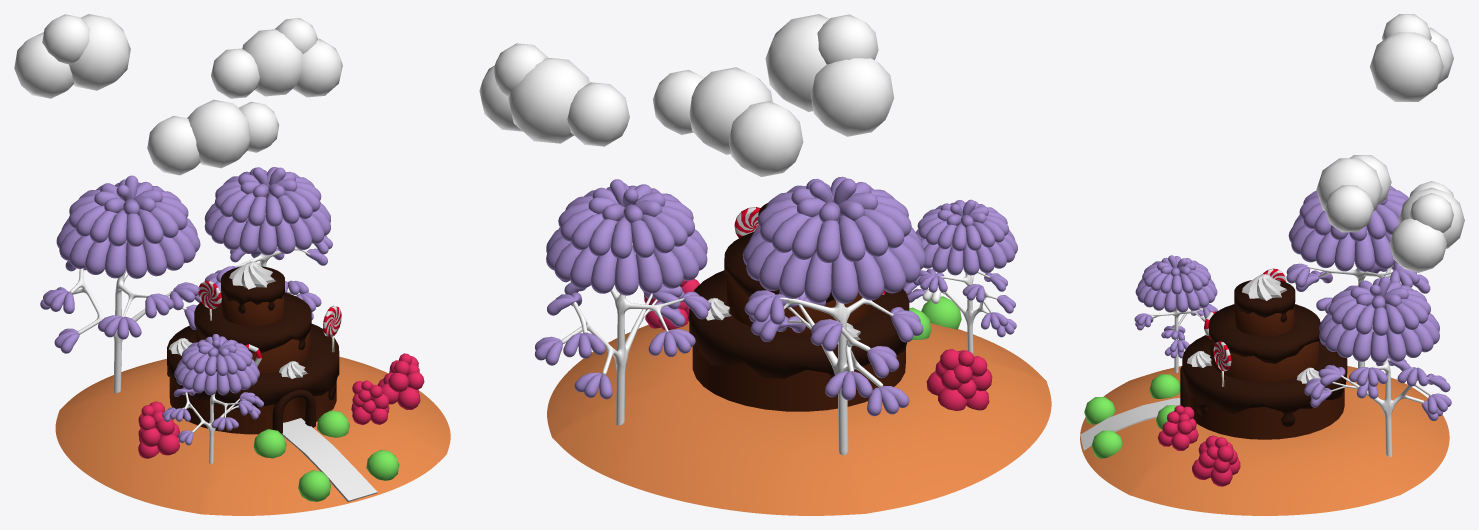
3 renders of one model, left to right at view 1: azimuth 30°, elevation 25°; view 2: azimuth 150°, elevation 25°; view 3: azimuth 270°, elevation 25°, orthographic. The views are drawn at different scales.
Parts seen in each view (by area): view 1: Plane.001_3, Leaf Circle Big.001_28, Cake.001_23, Leaf Circle Big.002_33, Icosphere.001_19, Icosphere.002_20, Icosphere_18, Cake_22, Leaf Circle Big_24, Plane.002_11, Raspi.002_10, Raspi.001_6 (+15 smaller); view 2: Plane.001_3, Leaf Circle Big.001_28, Leaf Circle Big.002_33, Icosphere.002_20, Icosphere.001_19, Icosphere_18, Cake.001_23, Cake_22, Leaf Circle Big_24, Leaf Mid.025_34, Leaf Mid.018_29, Raspi.002_10 (+8 smaller); view 3: Plane.001_3, Cake.001_23, Leaf Circle Big.002_33, Cake_22, Leaf Circle Big.001_28, Icosphere.002_20, Icosphere.001_19, Icosphere_18, Leaf Circle Big_24, Leaf Mid.025_34, Raspi.001_6, Plane.002_11 (+10 smaller).
Part boxes in pixels (x1=…): Plane.001_3: x1=55, y1=356, x2=450, y2=515; Leaf Circle Big.001_28: x1=56, y1=175, x2=200, y2=278; Cake.001_23: x1=167, y1=266, x2=339, y2=412; Leaf Circle Big.002_33: x1=204, y1=167, x2=330, y2=255; Icosphere.001_19: x1=211, y1=18, x2=342, y2=98; Icosphere.002_20: x1=14, y1=14, x2=130, y2=98; Icosphere_18: x1=147, y1=99, x2=278, y2=175; Cake_22: x1=169, y1=293, x2=336, y2=434; Leaf Circle Big_24: x1=174, y1=334, x2=259, y2=395; Plane.002_11: x1=282, y1=418, x2=377, y2=502; Raspi.002_10: x1=138, y1=401, x2=179, y2=458; Raspi.001_6: x1=378, y1=353, x2=424, y2=409; Plane.001_3: x1=547, y1=321, x2=1051, y2=515; Leaf Circle Big.001_28: x1=742, y1=176, x2=926, y2=303; Leaf Circle Big.002_33: x1=546, y1=179, x2=707, y2=295; Icosphere.002_20: x1=765, y1=14, x2=893, y2=136; Icosphere.001_19: x1=479, y1=43, x2=629, y2=146; Icosphere_18: x1=652, y1=67, x2=803, y2=176; Cake.001_23: x1=689, y1=202, x2=909, y2=381; Cake_22: x1=692, y1=249, x2=905, y2=411; Leaf Circle Big_24: x1=916, y1=199, x2=1017, y2=275; Leaf Mid.025_34: x1=534, y1=279, x2=710, y2=399; Leaf Mid.018_29: x1=810, y1=319, x2=909, y2=416; Raspi.002_10: x1=926, y1=349, x2=992, y2=410; Plane.001_3: x1=1080, y1=366, x2=1449, y2=515; Cake.001_23: x1=1182, y1=279, x2=1347, y2=426; Leaf Circle Big.002_33: x1=1319, y1=276, x2=1439, y2=363; Cake_22: x1=1188, y1=306, x2=1344, y2=439; Leaf Circle Big.001_28: x1=1288, y1=186, x2=1408, y2=271; Icosphere.002_20: x1=1370, y1=14, x2=1453, y2=101; Icosphere.001_19: x1=1389, y1=181, x2=1464, y2=272; Icosphere_18: x1=1316, y1=155, x2=1391, y2=232; Leaf Circle Big_24: x1=1135, y1=255, x2=1217, y2=312; Leaf Mid.025_34: x1=1304, y1=356, x2=1451, y2=420; Raspi.001_6: x1=1192, y1=435, x2=1240, y2=486; Plane.002_11: x1=1080, y1=398, x2=1180, y2=450.
Size of the model in its own units: 4.63 by 5.14 by 4.82.
